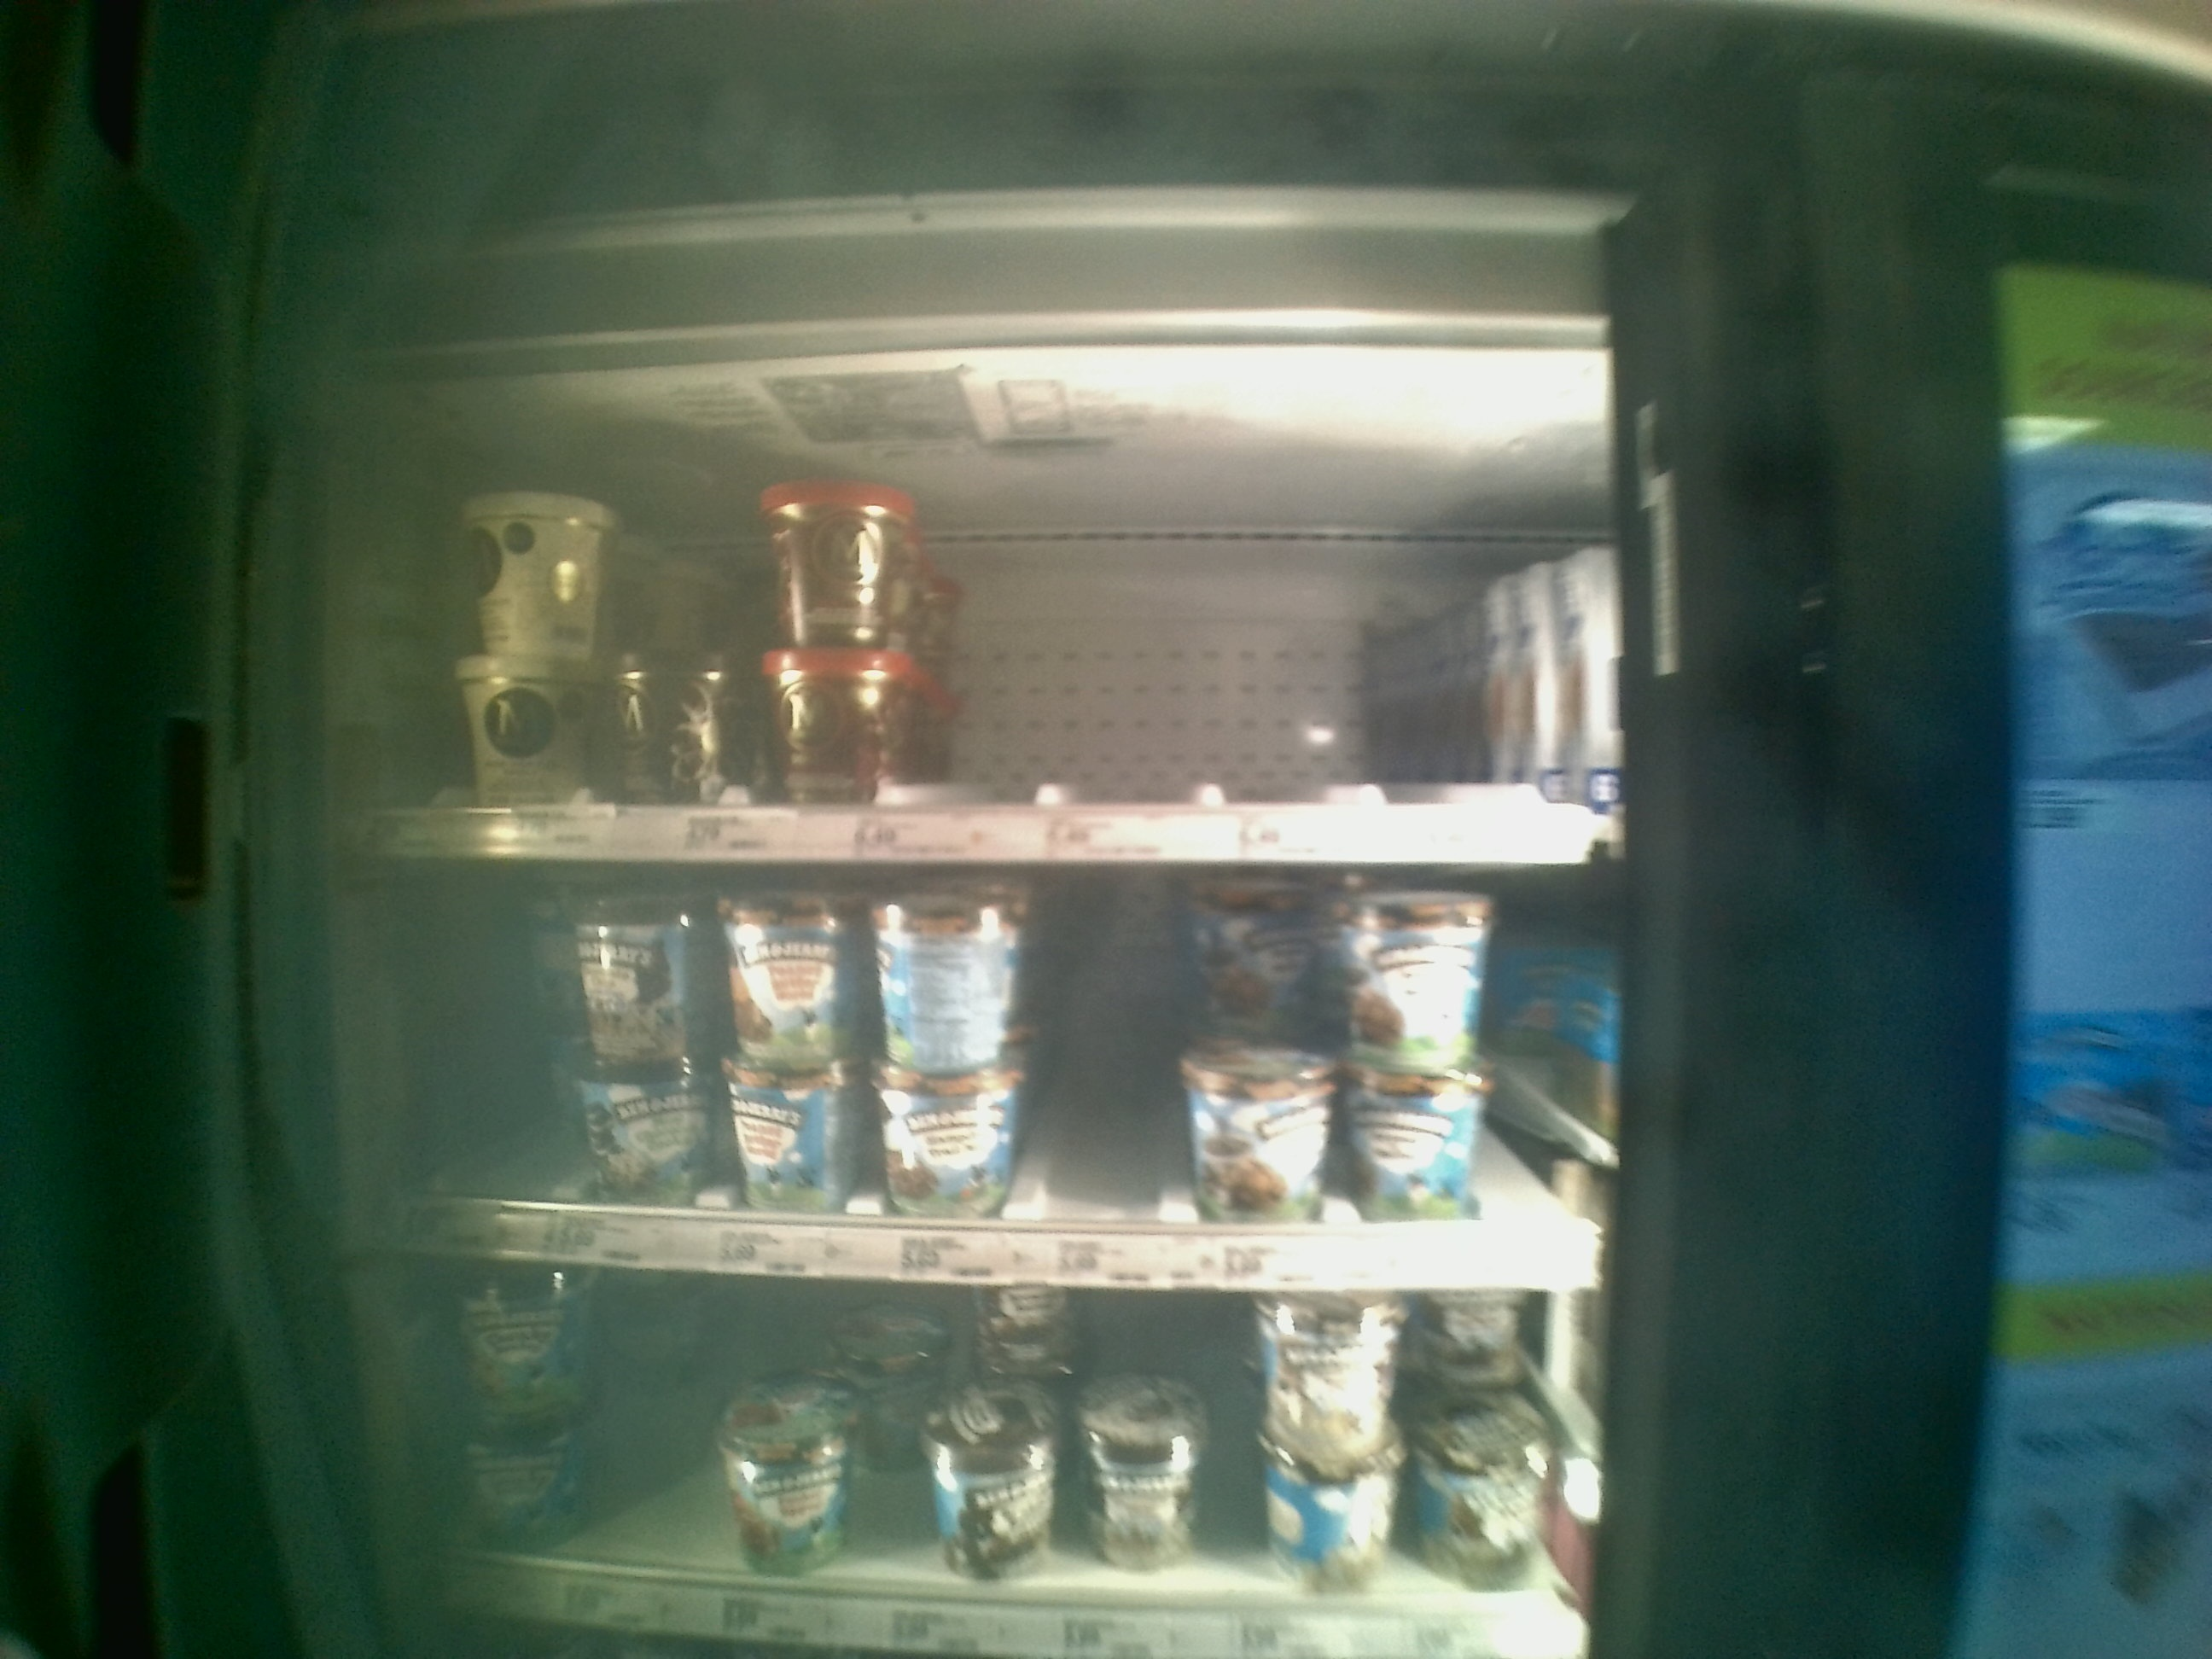ice-cream-shelf: (376, 413, 1609, 863), (376, 863, 1627, 1288)
